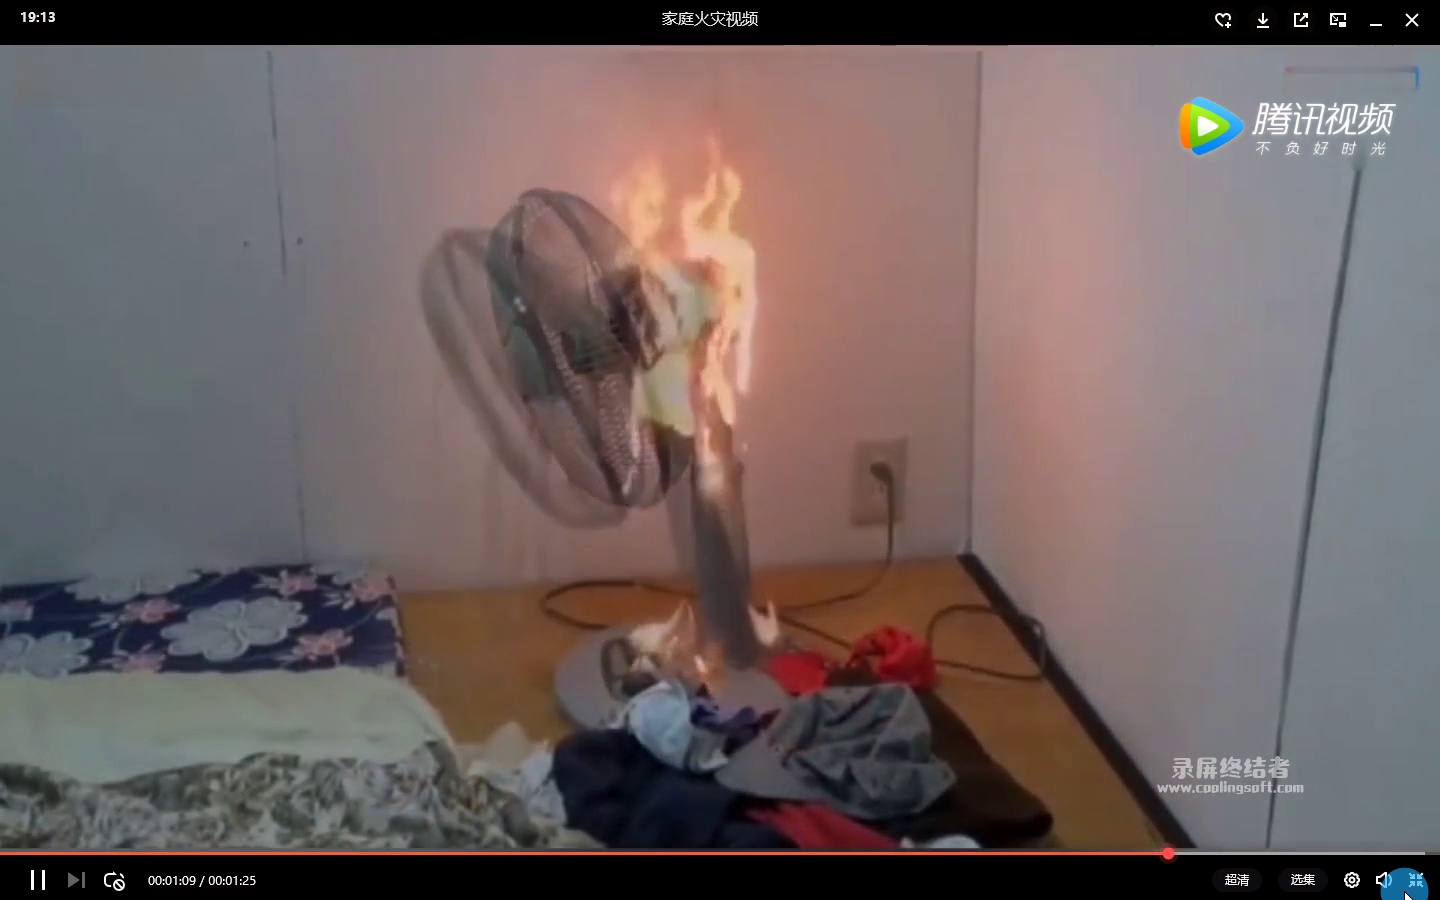fire: (592, 134, 764, 471)
